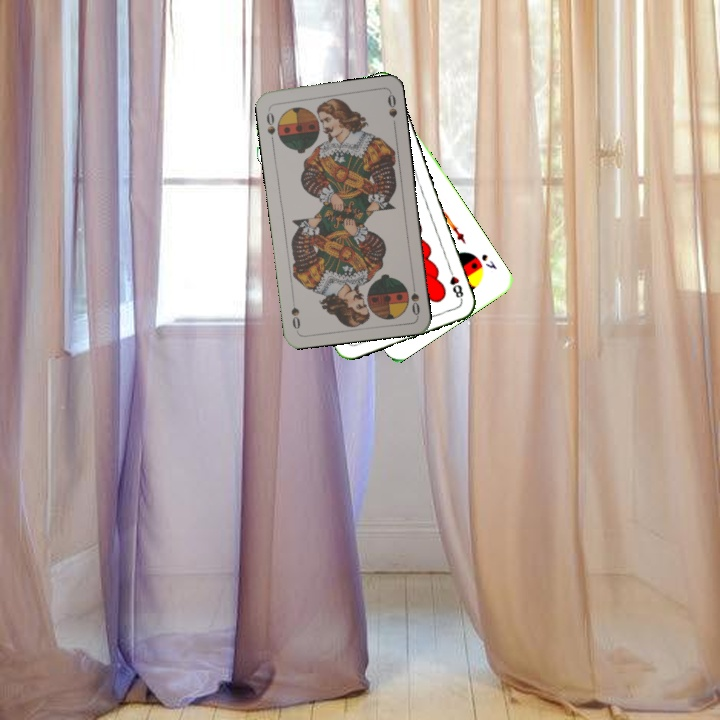H8: (445, 264, 466, 303)
SK: (477, 250, 499, 272)
SO: (262, 105, 278, 145), (407, 277, 422, 318)
